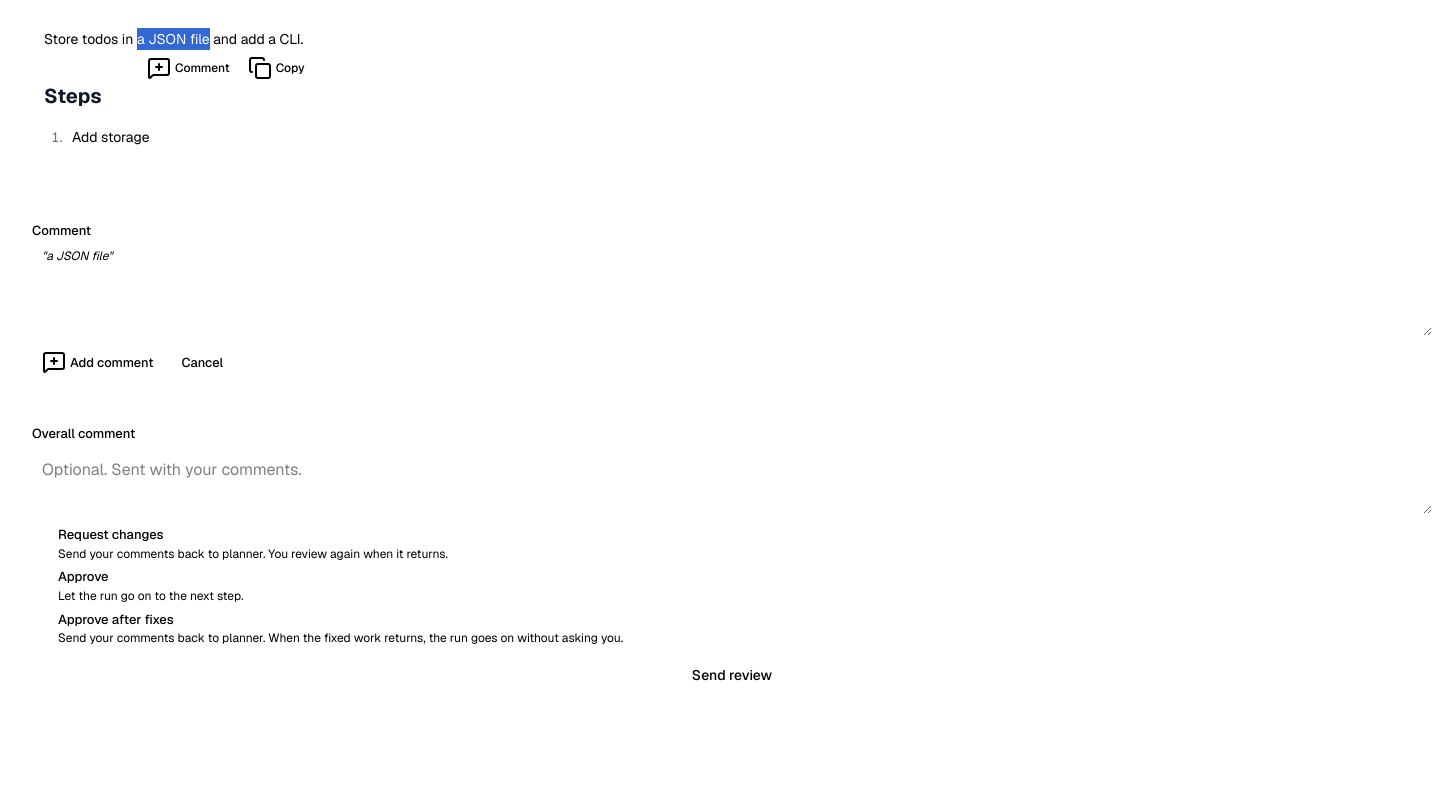
Test: the plan is rendered, and a selected passage can be commented on
Check: the heading "Steps" is shown, box [44, 83, 102, 109]
Check: the button "Add comment" is disabled, box [32, 348, 163, 376]
In the text box labelled "Comment": (732, 304) [32, 272, 1432, 336], type "Use SQLite instead."
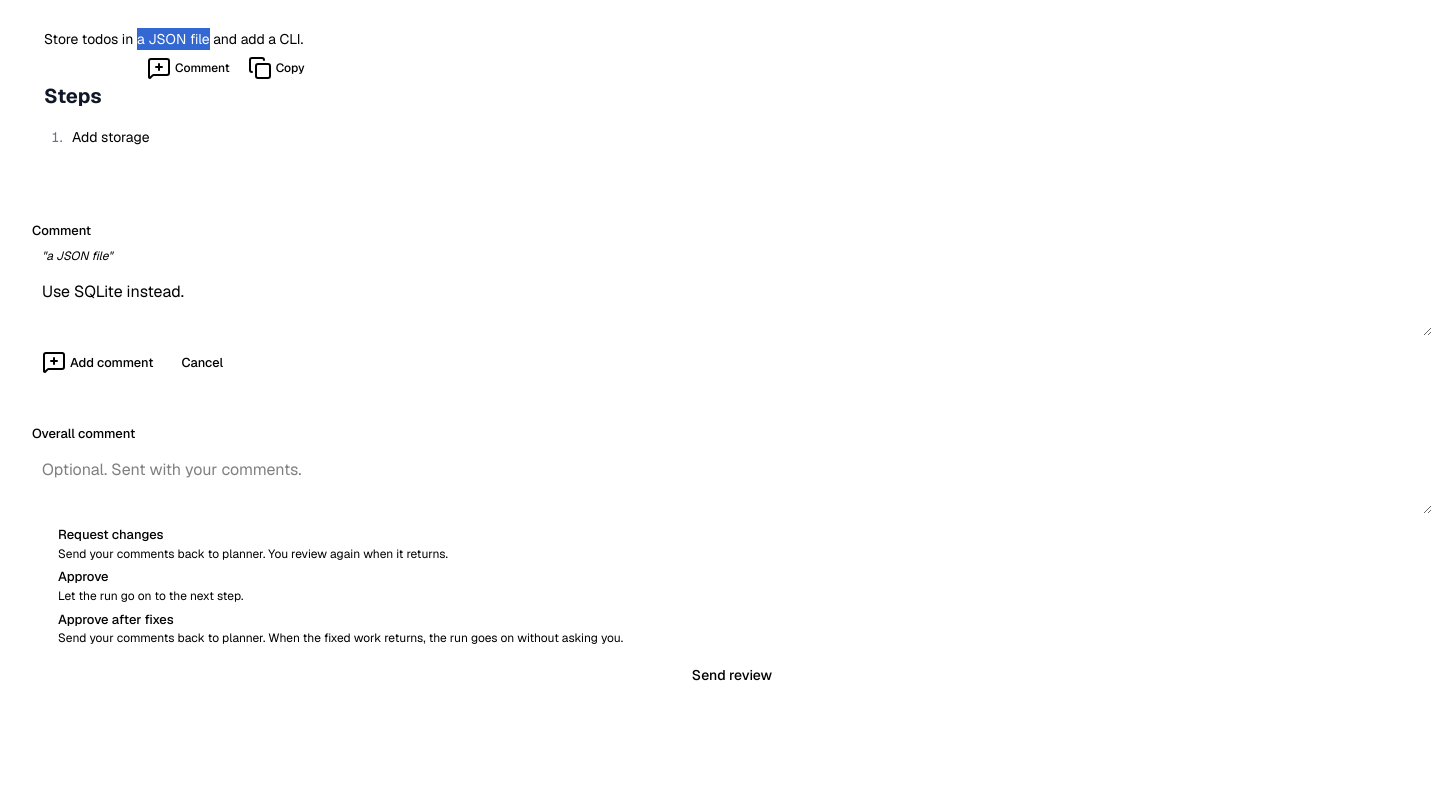
Click the button "Add comment": (98, 362) [32, 348, 163, 376]
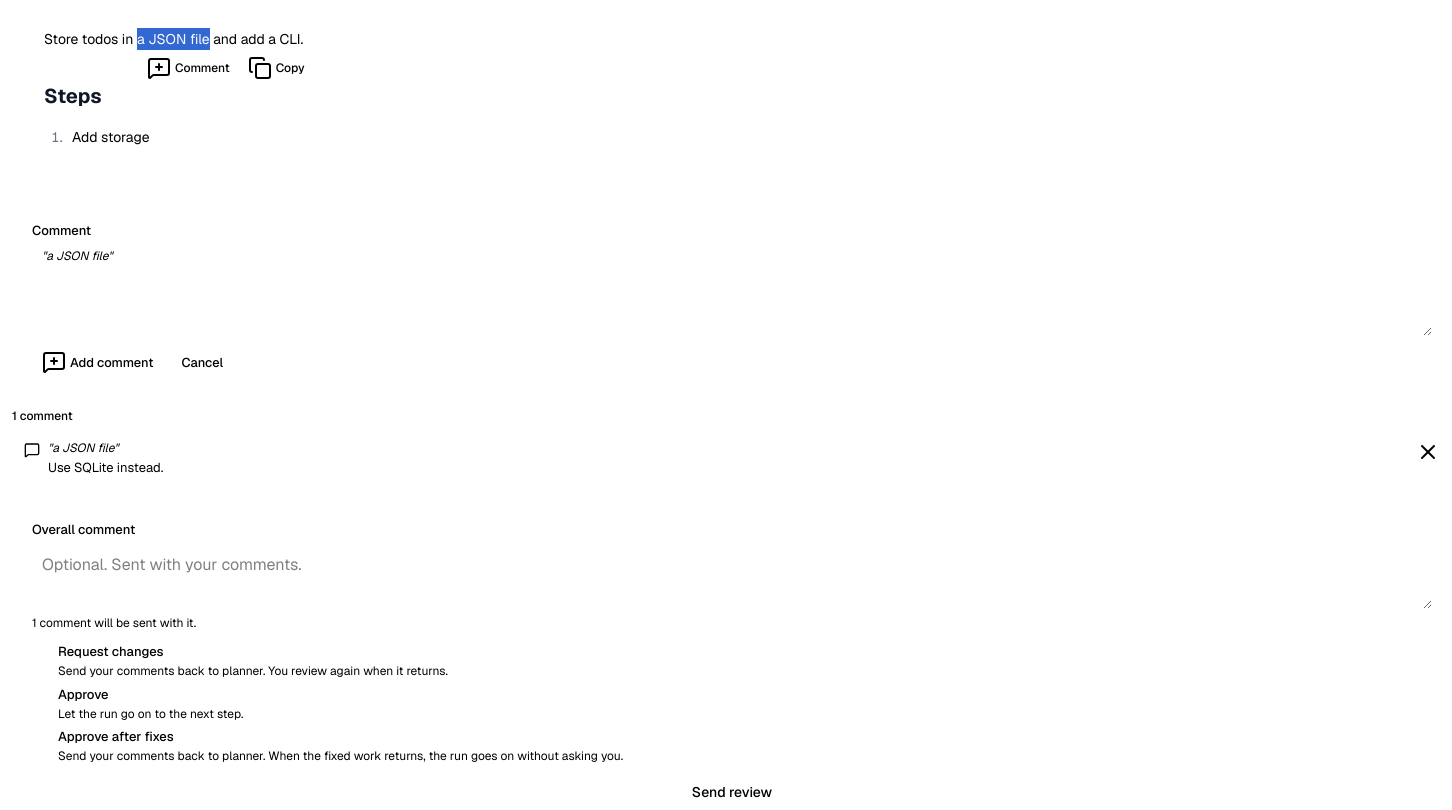
Check: the list named "Comments" shows "a JSON file", box [52, 440, 114, 456]
Check: the list named "Comments" shows "Use SQLite instead.", box [48, 459, 163, 476]
